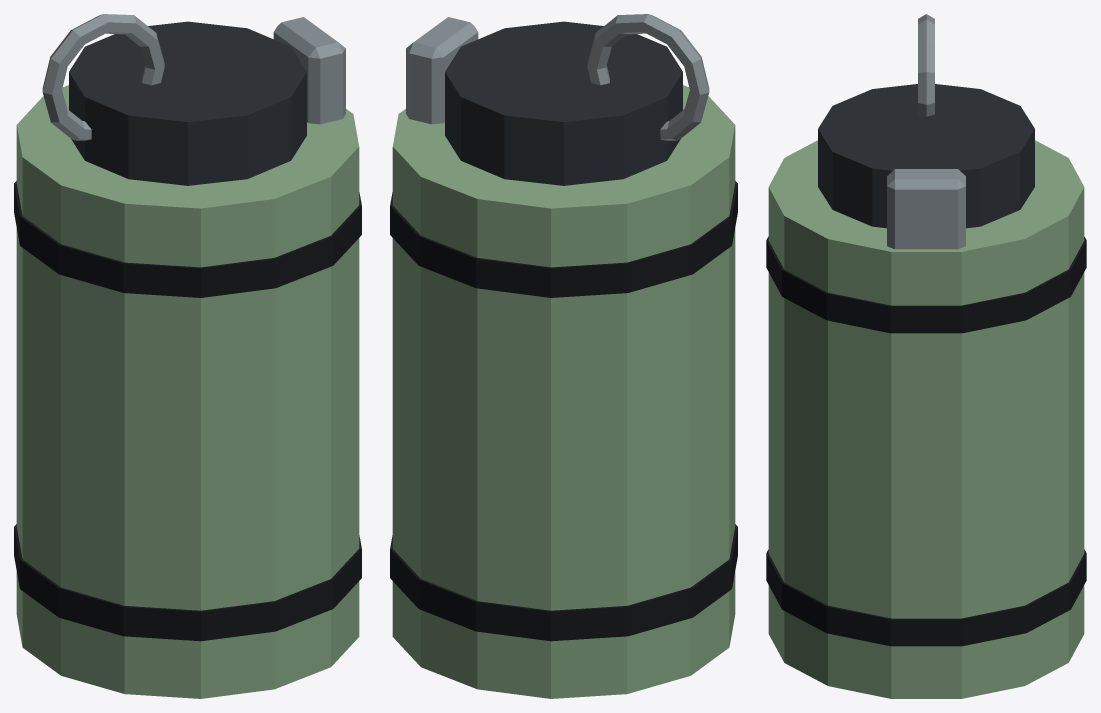
The model's file is Consumable_Smoke.fbx.
The picture shows the model from 3 angles, left to right: view 1: azimuth 30°, elevation 25°; view 2: azimuth 150°, elevation 25°; view 3: azimuth 270°, elevation 25°; orthographic projection. The views are drawn at different scales.
Visible parts, largest first — view 1: Body, Top, Stripe, Stripe.001, Ring, Lever; view 2: Body, Top, Stripe, Stripe.001, Ring, Lever; view 3: Body, Top, Stripe.001, Stripe, Lever, Ring.
Part boxes in pixels (x1=…): Body: x1=16, y1=85, x2=359, y2=698; Top: x1=69, y1=21, x2=306, y2=185; Stripe: x1=14, y1=524, x2=361, y2=641; Stripe.001: x1=14, y1=181, x2=361, y2=297; Ring: x1=42, y1=14, x2=164, y2=140; Lever: x1=273, y1=17, x2=345, y2=124; Body: x1=392, y1=85, x2=735, y2=698; Top: x1=445, y1=21, x2=682, y2=185; Stripe: x1=390, y1=524, x2=737, y2=641; Stripe.001: x1=390, y1=181, x2=737, y2=297; Ring: x1=587, y1=14, x2=709, y2=140; Lever: x1=406, y1=17, x2=478, y2=124; Body: x1=768, y1=140, x2=1084, y2=698; Top: x1=818, y1=84, x2=1034, y2=228; Stripe.001: x1=766, y1=236, x2=1086, y2=333; Stripe: x1=766, y1=549, x2=1086, y2=646; Lever: x1=887, y1=169, x2=965, y2=249; Ring: x1=918, y1=14, x2=934, y2=116.
Bounding box in the file's own units: 0.0634 × 0.129 × 0.065.
